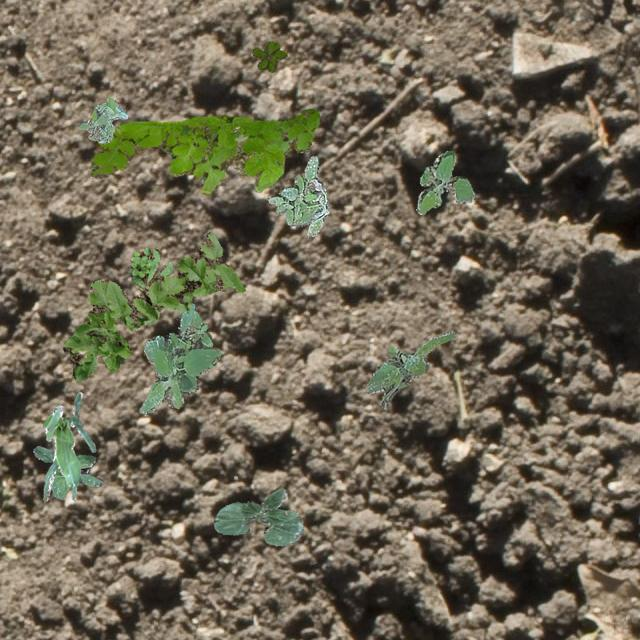crop: (42, 391, 94, 502), (212, 488, 302, 544)
weed: (62, 232, 245, 380), (88, 108, 318, 192), (138, 302, 220, 414), (364, 330, 454, 408), (266, 154, 328, 236), (416, 150, 474, 213), (33, 444, 100, 498), (76, 96, 128, 142), (130, 247, 170, 290), (252, 40, 286, 72)
